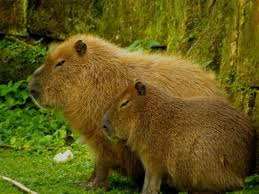capivara: (29, 33, 229, 194), (102, 80, 259, 194)
